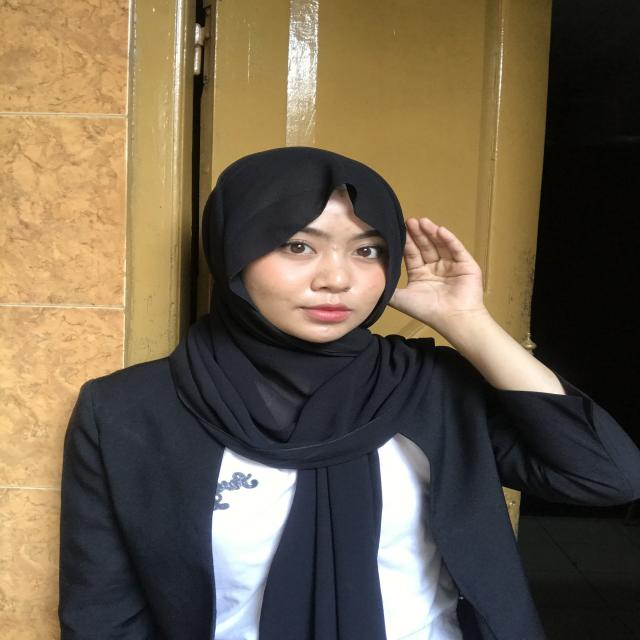mendengar: (384, 207, 486, 340)
